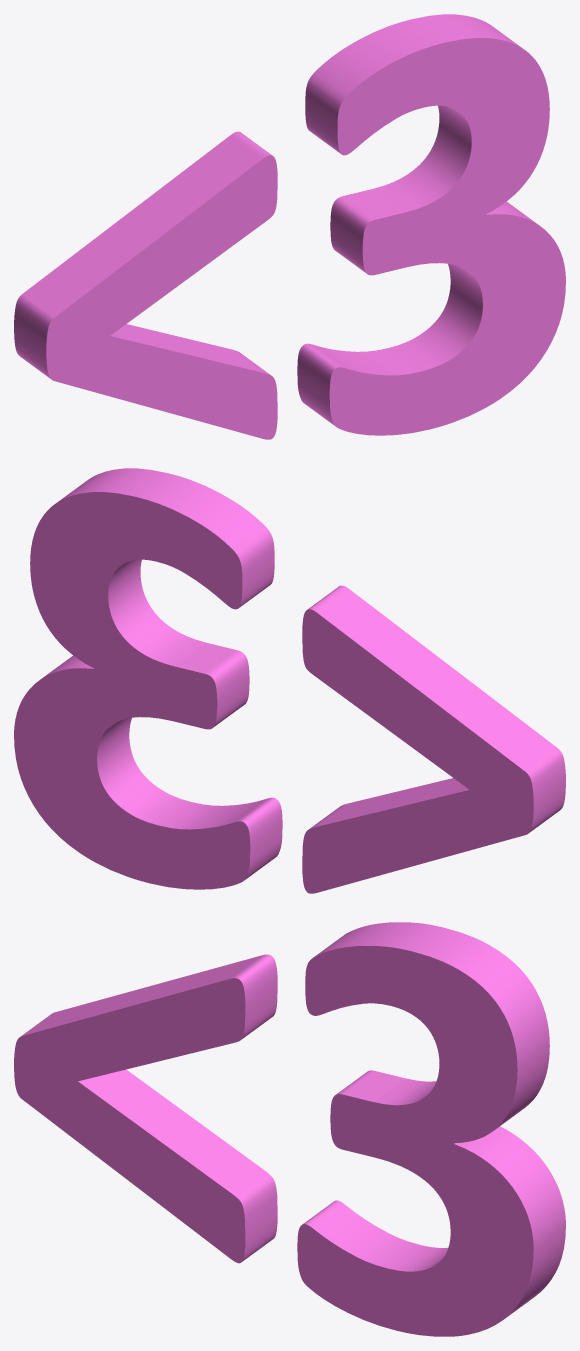
Rendered from heart.gltf.
The picture shows the model from 3 angles, top to bottom: view 1: azimuth 30°, elevation 25°; view 2: azimuth 150°, elevation 25°; view 3: azimuth 330°, elevation 25°; orthographic projection.
Parts seen in each view (by area): view 1: <3, <; view 2: <3, <; view 3: <3, <.
Part boxes in pixels (x1,y1,x2,y2): <3: [297, 14, 565, 435]; <: [14, 131, 277, 439]; <3: [14, 468, 282, 889]; <: [302, 585, 565, 893]; <3: [297, 922, 565, 1336]; <: [14, 954, 277, 1263].
Bounding box in the file's own units: 0.2354 × 0.1658 × 0.0253.
